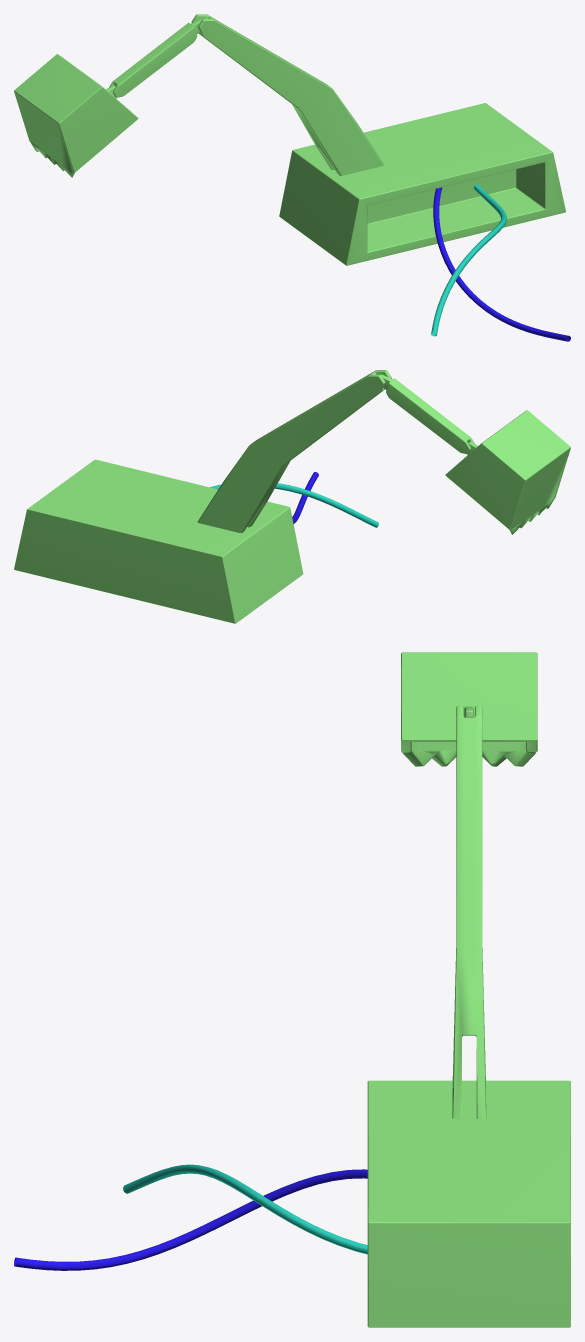
File: SM_FireMachine.fbx
The picture shows the model from 3 angles, top to bottom: view 1: azimuth 30°, elevation 25°; view 2: azimuth 150°, elevation 25°; view 3: azimuth 270°, elevation 25°; orthographic projection. The views are drawn at different scales.
Visible parts, largest first — view 1: Box002; view 2: Box002; view 3: Box002.
Boxes of the visible parts, x1,y1,x2,y2 form: Box002: (14,14,570,341); Box002: (14,370,570,623); Box002: (14,652,570,1327).
Size of the model in its own units: 989 by 522 by 639.
